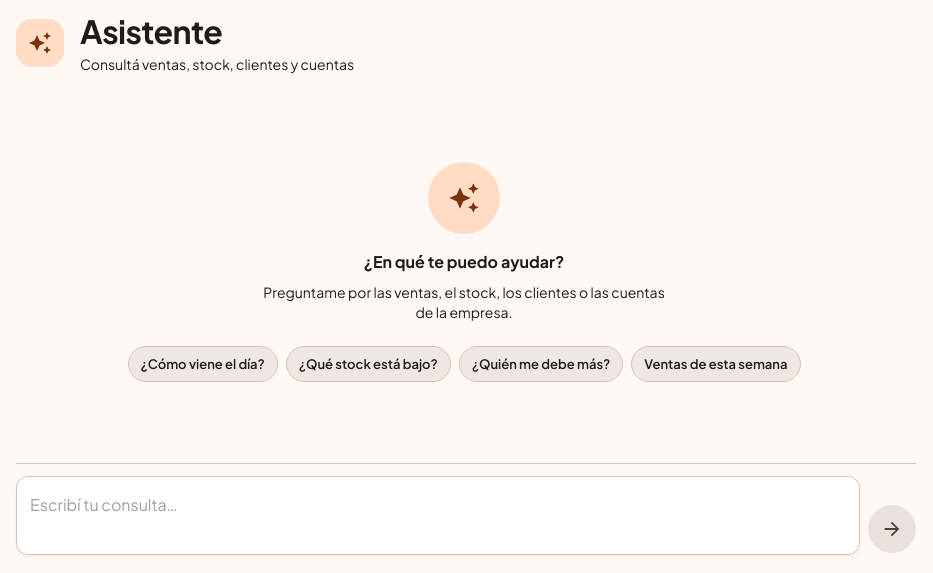
Test case: AssistantPage — read-only AI chat › renders the user message and the assistant reply after sending
This screenshot has width=933, height=573.
Check: the heading "¿En qué te puedo ayudar?" is shown, box x1=364 y1=250 x2=564 y2=274
In the text box named "Mensaje para el asistente": (438, 516) x1=30 y1=493 x2=846 y2=539, type "¿Cómo viene el día?"
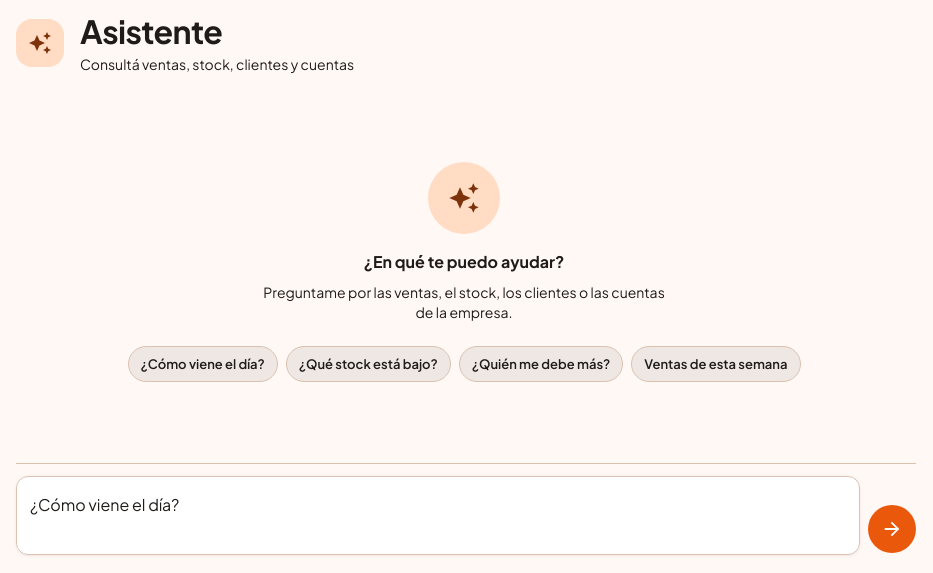
Press Enter in the text box named "Mensaje para el asistente", box x1=30 y1=493 x2=846 y2=539
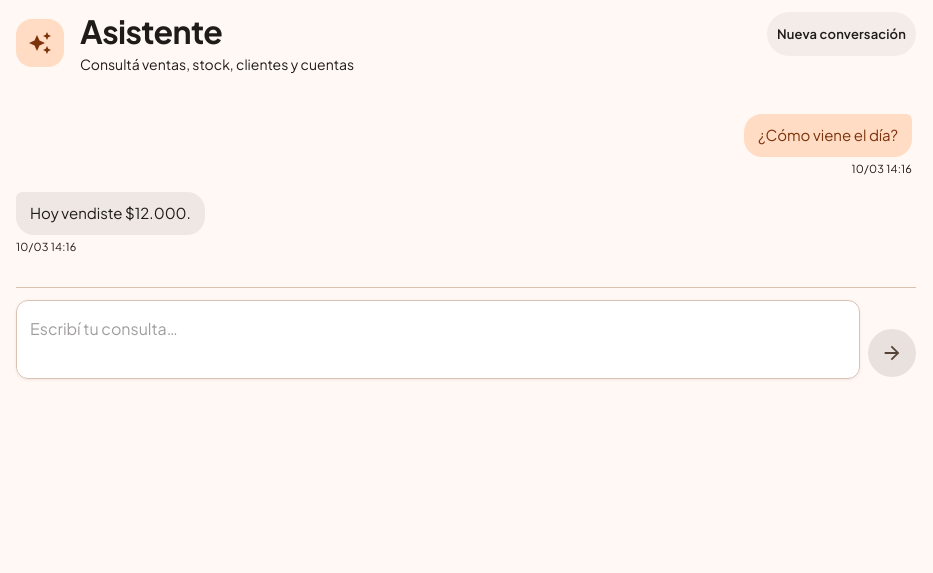
Check: the text "¿Cómo viene el día?" is shown, box x1=744 y1=114 x2=912 y2=157
Check: the text "Hoy vendiste $12.000." is shown, box x1=16 y1=192 x2=205 y2=235
